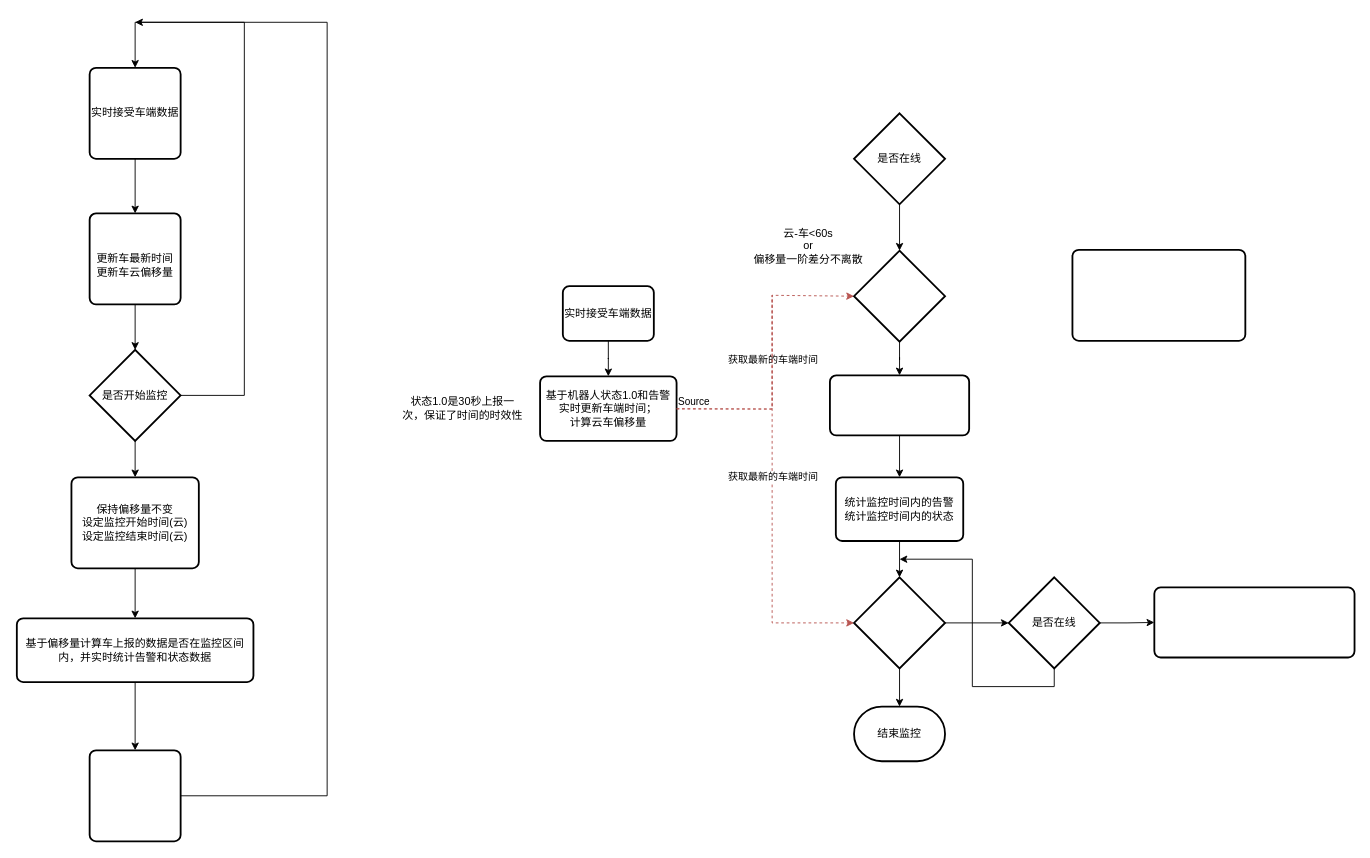
This 1370x858 diagram has some shape labels left out. Each missing label, with the box of its shape:
基于最新的车端时间 设定监控开始时间(车) 设定监控结束时间(车): (829, 374, 970, 436)
是否不积压: (853, 249, 945, 342)
监控结束: (88, 749, 181, 842)
离线时间达到一定时长，结束监控 如果最终状态是异常是否要考虑告警？: (1153, 586, 1355, 658)
车端时间是否到达监控结束时间: (853, 576, 945, 669)
